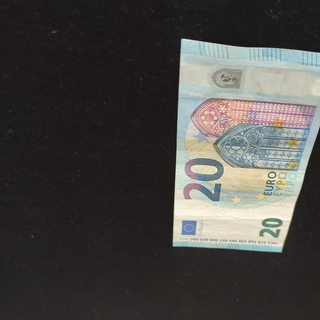20EUROFront: (171, 37, 320, 253)
